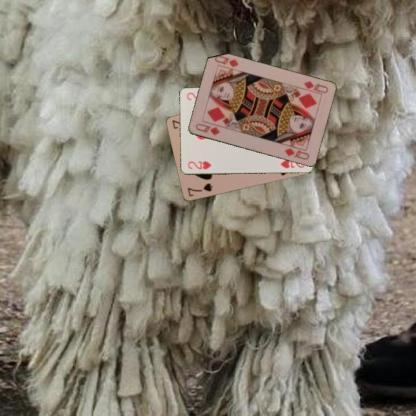2h: (185, 159, 213, 171)
7s: (185, 180, 214, 198)
Qd: (298, 78, 329, 96), (193, 121, 221, 136)
